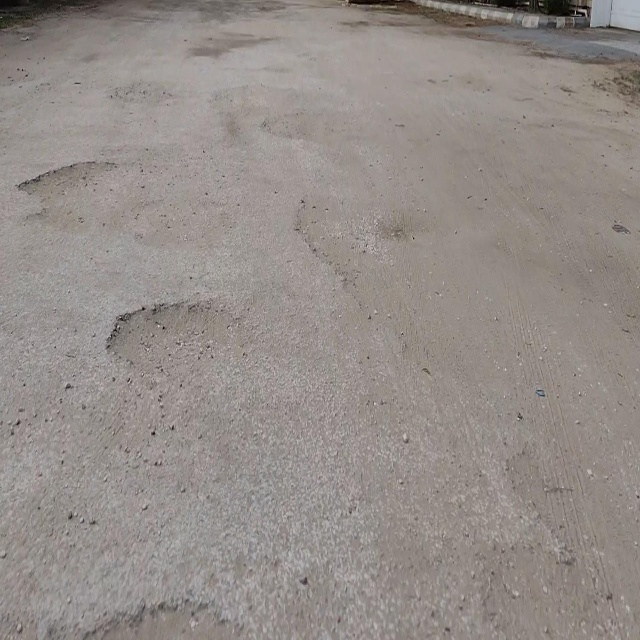pothole: (106, 298, 238, 378)
